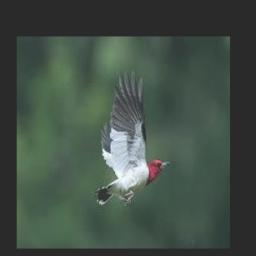Woodpecker: (93, 70, 170, 205)
